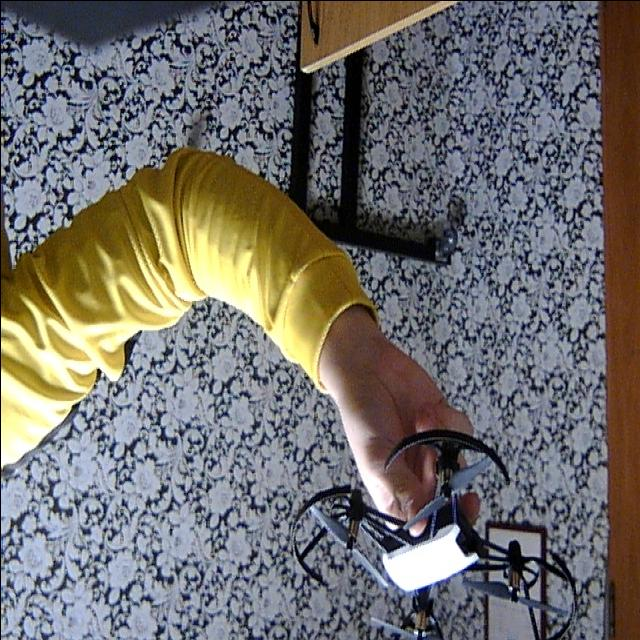drone: (284, 424, 586, 640)
